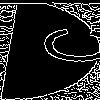C: (24, 25, 100, 66)
